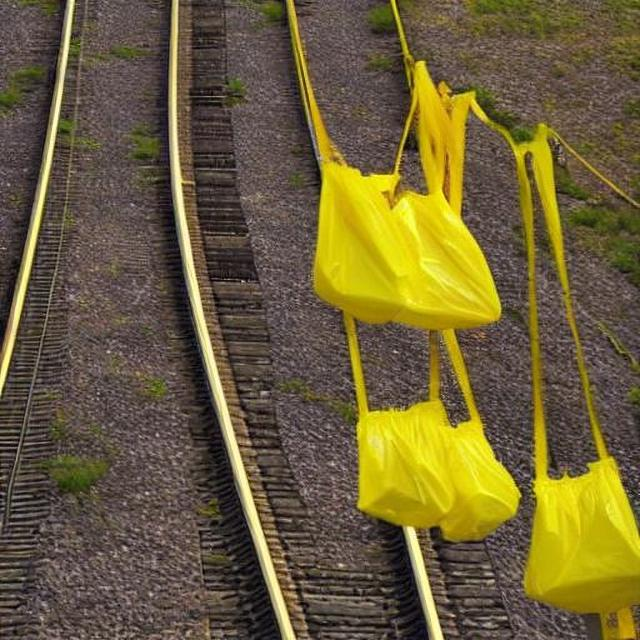floating object: (286, 23, 610, 609)
